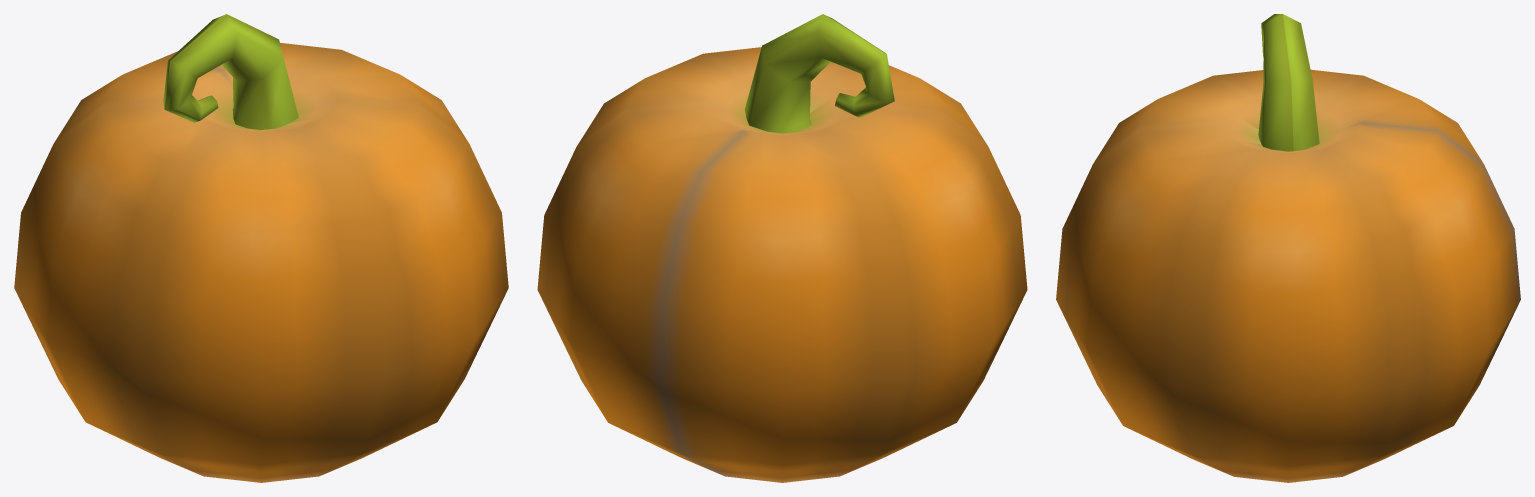
File: pumkin.fbx
3 views of the same model, side by side, from view 1: azimuth 30°, elevation 25°; view 2: azimuth 150°, elevation 25°; view 3: azimuth 270°, elevation 25° (orthographic). The views are drawn at different scales.
Parts seen in each view (by area): view 1: Pumkin, Sweep NURBS; view 2: Pumkin, Sweep NURBS; view 3: Pumkin, Sweep NURBS.
Boxes of the visible parts, x1,y1,x2,y2 form: Pumkin: (14,43,508,482); Sweep NURBS: (163,14,298,129); Pumkin: (537,47,1027,482); Sweep NURBS: (744,14,894,133); Pumkin: (1056,69,1520,482); Sweep NURBS: (1258,14,1319,151).
Size of the model in its own units: 156 by 151 by 156.
1 material, 1 textured.
